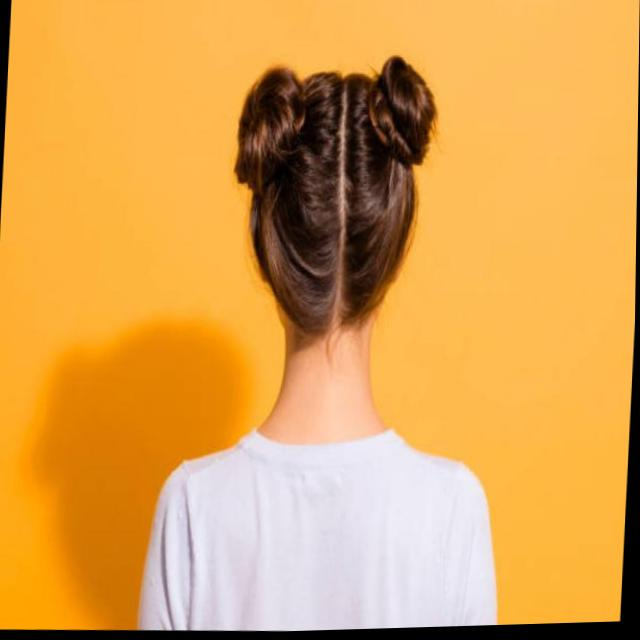no helmet: (216, 57, 450, 362)
